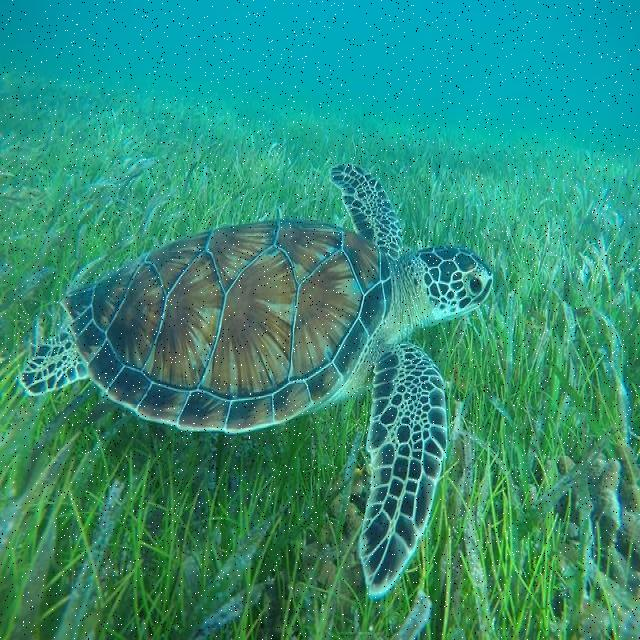fish: (15, 164, 496, 596)
